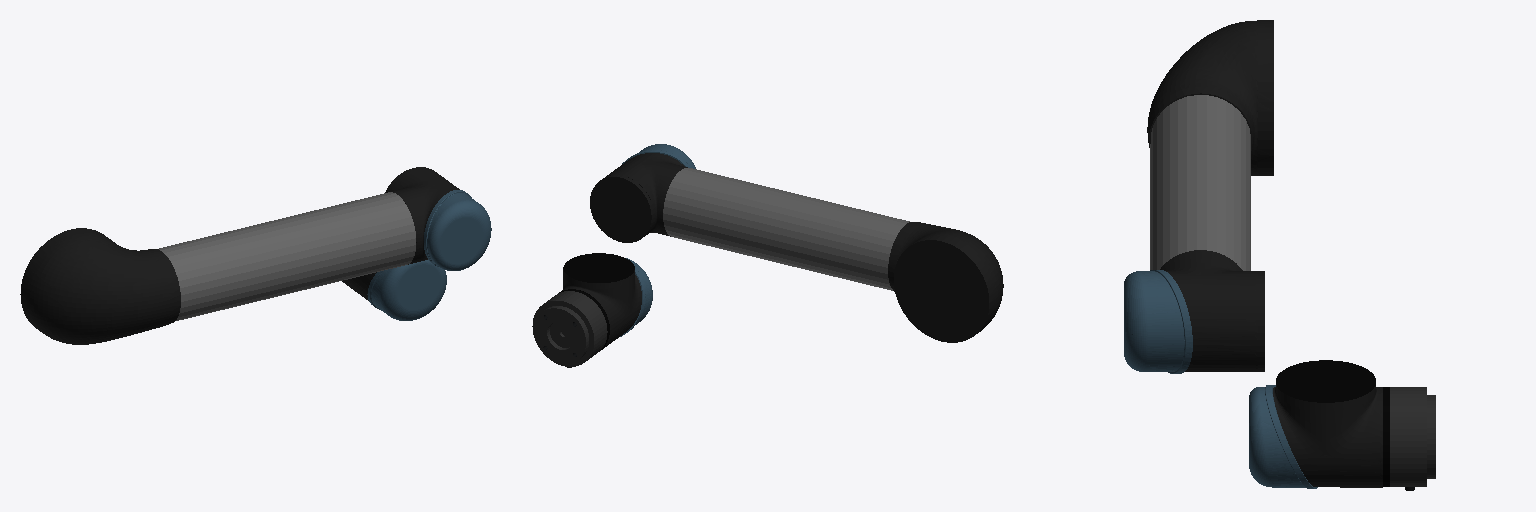
URDF robot description (ur5):
<?xml version="1.0" ?>
<!-- =================================================================================== -->
<!-- |    This document was autogenerated by xacro from ur5_robot.urdf.xacro           | -->
<!-- |    EDITING THIS FILE BY HAND IS NOT RECOMMENDED                                 | -->
<!-- =================================================================================== -->
<robot name="ur5" xmlns:xacro="http://www.ros.org/wiki/xacro">
  <!-- common stuff -->
  <gazebo>
    <plugin filename="libgazebo_ros_control.so" name="ros_control">
      <!--robotNamespace>/</robotNamespace-->
      <!--robotSimType>gazebo_ros_control/DefaultRobotHWSim</robotSimType-->
    </plugin>
    <!--
    <plugin name="gazebo_ros_power_monitor_controller" filename="libgazebo_ros_power_monitor.so">
      <alwaysOn>true</alwaysOn>
      <updateRate>1.0</updateRate>
      <timeout>5</timeout>
      <powerStateTopic>power_state</powerStateTopic>
      <powerStateRate>10.0</powerStateRate>
      <fullChargeCapacity>87.78</fullChargeCapacity>     
      <dischargeRate>-474</dischargeRate>
      <chargeRate>525</chargeRate>
      <dischargeVoltage>15.52</dischargeVoltage>
      <chargeVoltage>16.41</chargeVoltage>
    </plugin>
-->
  </gazebo>
  <!-- ur5 -->
  <!-- arm -->
  <link name="base_link">
    <visual>
      <geometry>
        <mesh filename="package://ur_description/meshes/ur5/visual/Base.dae"/>
      </geometry>
    </visual>
    <collision>
      <geometry>
        <mesh filename="package://ur_description/meshes/ur5/collision/Base.dae"/>
      </geometry>
    </collision>
    <inertial>
      <mass value="4.0"/>
      <origin rpy="0 0 0" xyz="0.0 0.0 0.0"/>
      <inertia ixx="0.00443333156" ixy="0.0" ixz="0.0" iyy="0.00443333156" iyz="0.0" izz="0.0072"/>
    </inertial>
  </link>
  <joint name="shoulder_pan_joint" type="revolute">
    <parent link="base_link"/>
    <child link="shoulder_link"/>
    <origin rpy="0.0 0.0 0.0" xyz="0.0 0.0 0.089159"/>
    <axis xyz="0 0 1"/>
    <limit effort="150.0" lower="-6.2831853" upper="6.2831853" velocity="3.15"/>
    <dynamics damping="0.0" friction="0.0"/>
  </joint>
  <link name="shoulder_link">
    <visual>
      <geometry>
        <mesh filename="package://ur_description/meshes/ur5/visual/Shoulder.dae"/>
      </geometry>
    </visual>
    <collision>
      <geometry>
        <mesh filename="package://ur_description/meshes/ur5/collision/Shoulder.dae"/>
      </geometry>
    </collision>
    <inertial>
      <mass value="3.7"/>
      <origin rpy="0 0 0" xyz="0.0 0.0 0.0"/>
      <inertia ixx="0.010267495893" ixy="0.0" ixz="0.0" iyy="0.010267495893" iyz="0.0" izz="0.00666"/>
    </inertial>
  </link>
  <joint name="shoulder_lift_joint" type="revolute">
    <parent link="shoulder_link"/>
    <child link="upper_arm_link"/>
    <origin rpy="0.0 1.570796325 0.0" xyz="0.0 0.13585 0.0"/>
    <axis xyz="0 1 0"/>
    <limit effort="150.0" lower="-6.2831853" upper="6.2831853" velocity="3.15"/>
    <dynamics damping="0.0" friction="0.0"/>
  </joint>
  <link name="upper_arm_link">
    <visual>
      <geometry>
        <mesh filename="package://ur_description/meshes/ur5/visual/UpperArm.dae"/>
      </geometry>
    </visual>
    <collision>
      <geometry>
        <mesh filename="package://ur_description/meshes/ur5/collision/UpperArm.dae"/>
      </geometry>
    </collision>
    <inertial>
      <mass value="8.393"/>
      <origin rpy="0 0 0" xyz="0.0 0.0 0.28"/>
      <inertia ixx="0.22689067591" ixy="0.0" ixz="0.0" iyy="0.22689067591" iyz="0.0" izz="0.0151074"/>
    </inertial>
  </link>
  <joint name="elbow_joint" type="revolute">
    <parent link="upper_arm_link"/>
    <child link="forearm_link"/>
    <origin rpy="0.0 0.0 0.0" xyz="0.0 -0.1197 0.425"/>
    <axis xyz="0 1 0"/>
    <limit effort="150.0" lower="-6.2831853" upper="6.2831853" velocity="3.15"/>
    <dynamics damping="0.0" friction="0.0"/>
  </joint>
  <link name="forearm_link">
    <visual>
      <geometry>
        <mesh filename="package://ur_description/meshes/ur5/visual/Forearm.dae"/>
      </geometry>
    </visual>
    <collision>
      <geometry>
        <mesh filename="package://ur_description/meshes/ur5/collision/Forearm.dae"/>
      </geometry>
    </collision>
    <inertial>
      <mass value="2.275"/>
      <origin rpy="0 0 0" xyz="0.0 0.0 0.25"/>
      <inertia ixx="0.049443313556" ixy="0.0" ixz="0.0" iyy="0.049443313556" iyz="0.0" izz="0.004095"/>
    </inertial>
  </link>
  <joint name="wrist_1_joint" type="revolute">
    <parent link="forearm_link"/>
    <child link="wrist_1_link"/>
    <origin rpy="0.0 1.570796325 0.0" xyz="0.0 0.0 0.39225"/>
    <axis xyz="0 1 0"/>
    <limit effort="28.0" lower="-6.2831853" upper="6.2831853" velocity="3.2"/>
    <dynamics damping="0.0" friction="0.0"/>
  </joint>
  <link name="wrist_1_link">
    <visual>
      <geometry>
        <mesh filename="package://ur_description/meshes/ur5/visual/Wrist1.dae"/>
      </geometry>
    </visual>
    <collision>
      <geometry>
        <mesh filename="package://ur_description/meshes/ur5/collision/Wrist1.dae"/>
      </geometry>
    </collision>
    <inertial>
      <mass value="1.219"/>
      <origin rpy="0 0 0" xyz="0.0 0.0 0.0"/>
      <inertia ixx="0.111172755531" ixy="0.0" ixz="0.0" iyy="0.111172755531" iyz="0.0" izz="0.21942"/>
    </inertial>
  </link>
  <joint name="wrist_2_joint" type="revolute">
    <parent link="wrist_1_link"/>
    <child link="wrist_2_link"/>
    <origin rpy="0.0 0.0 0.0" xyz="0.0 0.093 0.0"/>
    <axis xyz="0 0 1"/>
    <limit effort="28.0" lower="-6.2831853" upper="6.2831853" velocity="3.2"/>
    <dynamics damping="0.0" friction="0.0"/>
  </joint>
  <link name="wrist_2_link">
    <visual>
      <geometry>
        <mesh filename="package://ur_description/meshes/ur5/visual/Wrist2.dae"/>
      </geometry>
    </visual>
    <collision>
      <geometry>
        <mesh filename="package://ur_description/meshes/ur5/collision/Wrist2.dae"/>
      </geometry>
    </collision>
    <inertial>
      <mass value="1.219"/>
      <origin rpy="0 0 0" xyz="0.0 0.0 0.0"/>
      <inertia ixx="0.111172755531" ixy="0.0" ixz="0.0" iyy="0.111172755531" iyz="0.0" izz="0.21942"/>
    </inertial>
  </link>
  <joint name="wrist_3_joint" type="revolute">
    <parent link="wrist_2_link"/>
    <child link="wrist_3_link"/>
    <origin rpy="0.0 0.0 0.0" xyz="0.0 0.0 0.09465"/>
    <axis xyz="0 1 0"/>
    <limit effort="28.0" lower="-6.2831853" upper="6.2831853" velocity="3.2"/>
    <dynamics damping="0.0" friction="0.0"/>
  </joint>
  <link name="wrist_3_link">
    <visual>
      <geometry>
        <mesh filename="package://ur_description/meshes/ur5/visual/Wrist3.dae"/>
      </geometry>
    </visual>
    <collision>
      <geometry>
        <mesh filename="package://ur_description/meshes/ur5/collision/Wrist3.dae"/>
      </geometry>
    </collision>
    <inertial>
      <mass value="0.1879"/>
      <origin rpy="0 0 0" xyz="0.0 0.0 0.0"/>
      <inertia ixx="0.0171364731454" ixy="0.0" ixz="0.0" iyy="0.0171364731454" iyz="0.0" izz="0.033822"/>
    </inertial>
  </link>
  <joint name="ee_fixed_joint" type="fixed">
    <parent link="wrist_3_link"/>
    <child link="ee_link"/>
    <origin rpy="0.0 0.0 1.570796325" xyz="0.0 0.0823 0.0"/>
  </joint>
  <link name="ee_link"/>
  <transmission name="shoulder_pan_trans">
    <type>transmission_interface/SimpleTransmission</type>
    <joint name="shoulder_pan_joint"/>
    <actuator name="shoulder_pan_motor">
      <hardwareInterface>EffortJointInterface</hardwareInterface>
      <mechanicalReduction>1</mechanicalReduction>
    </actuator>
  </transmission>
  <transmission name="shoulder_lift_trans">
    <type>transmission_interface/SimpleTransmission</type>
    <joint name="shoulder_lift_joint"/>
    <actuator name="shoulder_lift_motor">
      <hardwareInterface>EffortJointInterface</hardwareInterface>
      <mechanicalReduction>1</mechanicalReduction>
    </actuator>
  </transmission>
  <transmission name="elbow_trans">
    <type>transmission_interface/SimpleTransmission</type>
    <joint name="elbow_joint"/>
    <actuator name="elbow_motor">
      <hardwareInterface>EffortJointInterface</hardwareInterface>
      <mechanicalReduction>1</mechanicalReduction>
    </actuator>
  </transmission>
  <transmission name="wrist_1_trans">
    <type>transmission_interface/SimpleTransmission</type>
    <joint name="wrist_1_joint"/>
    <actuator name="wrist_1_motor">
      <hardwareInterface>EffortJointInterface</hardwareInterface>
      <mechanicalReduction>1</mechanicalReduction>
    </actuator>
  </transmission>
  <transmission name="wrist_2_trans">
    <type>transmission_interface/SimpleTransmission</type>
    <joint name="wrist_2_joint"/>
    <actuator name="wrist_2_motor">
      <hardwareInterface>EffortJointInterface</hardwareInterface>
      <mechanicalReduction>1</mechanicalReduction>
    </actuator>
  </transmission>
  <transmission name="wrist_3_trans">
    <type>transmission_interface/SimpleTransmission</type>
    <joint name="wrist_3_joint"/>
    <actuator name="wrist_3_motor">
      <hardwareInterface>EffortJointInterface</hardwareInterface>
      <mechanicalReduction>1</mechanicalReduction>
    </actuator>
  </transmission>
  <link name="world"/>
  <joint name="world_joint" type="fixed">
    <parent link="world"/>
    <child link="base_link"/>
    <origin rpy="0.0 0.0 0.0" xyz="0.0 0.0 0.0"/>
  </joint>
</robot>

--- Render facts (derived) ---
The picture shows the robot from 3 angles, left to right: view 1: azimuth 30°, elevation 25°; view 2: azimuth 150°, elevation 25°; view 3: azimuth 270°, elevation 25°; orthographic projection.
Model ur5 with 9 links and 8 joints (6 revolute, 2 fixed), rooted at world, posed all joints at 0.
Links seen in each view (by area): view 1: forearm_link, wrist_2_link; view 2: forearm_link, wrist_2_link, wrist_3_link; view 3: forearm_link, wrist_2_link, wrist_3_link.
Boxes of the visible links, box(x1,y1,x2,y2) form: forearm_link: box(20, 167, 491, 344); wrist_2_link: box(342, 260, 446, 320); forearm_link: box(590, 144, 1003, 342); wrist_2_link: box(559, 253, 652, 349); wrist_3_link: box(532, 291, 607, 367); forearm_link: box(1124, 20, 1273, 373); wrist_2_link: box(1249, 360, 1389, 488); wrist_3_link: box(1390, 387, 1435, 490).
Bounding box of the posed robot: 0.4892 × 0.232 × 0.1956 m (x, y, z).
3 mesh visuals loaded from 7 distinct referenced files (3 Collada DAE); not drawn: 4 (reference not matched to a file when rendering).